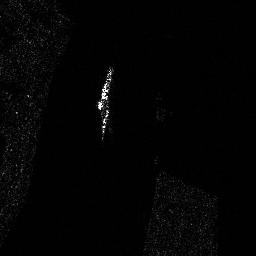ship: (98, 66, 112, 111)
